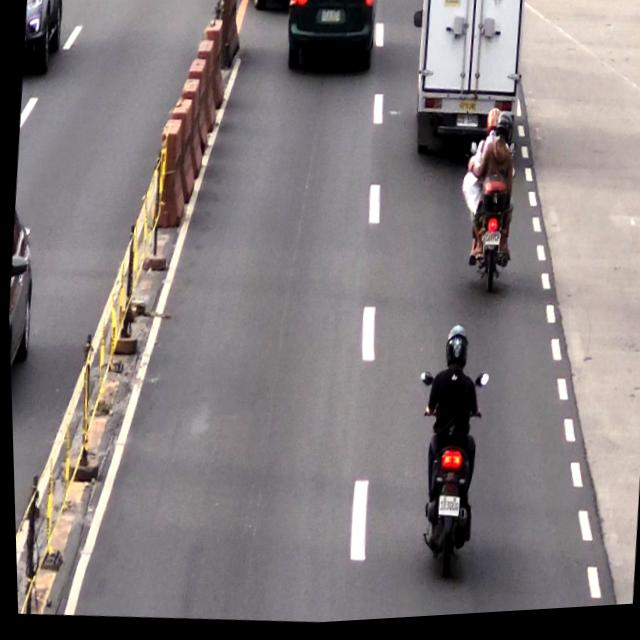Car: (283, 0, 378, 82)
License-Plate: (431, 497, 458, 522), (454, 114, 480, 135), (319, 12, 342, 27), (482, 236, 501, 253)
Motorcycle: (411, 332, 484, 579), (463, 112, 519, 297)
Truck: (413, 0, 532, 160)
